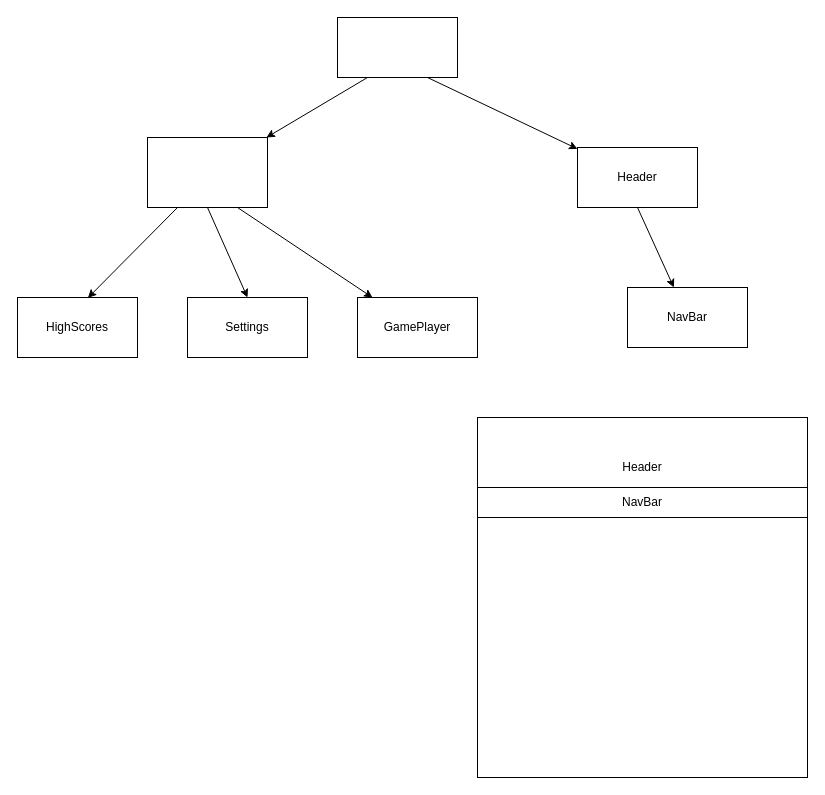
Some shapes in this 825 by 795 pixel diagram are drawn without their labels. The shapes that lost their labels are listed below. From the top down, each one's box as (x1, y1, x2, y2) in pixels, then its label:
(336, 16, 458, 78): App
(146, 136, 268, 208): GamePage
(476, 516, 808, 778): Game
